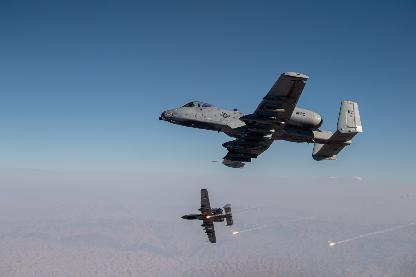A10: (158, 72, 362, 167), (180, 187, 233, 242)
